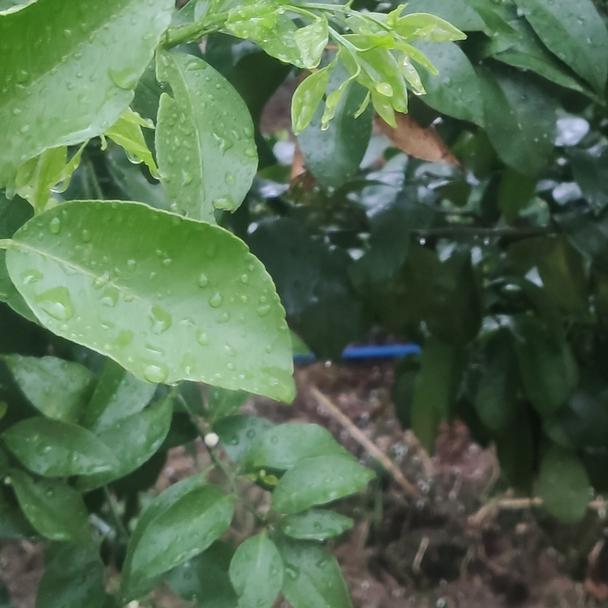shoot: (206, 2, 458, 130)
